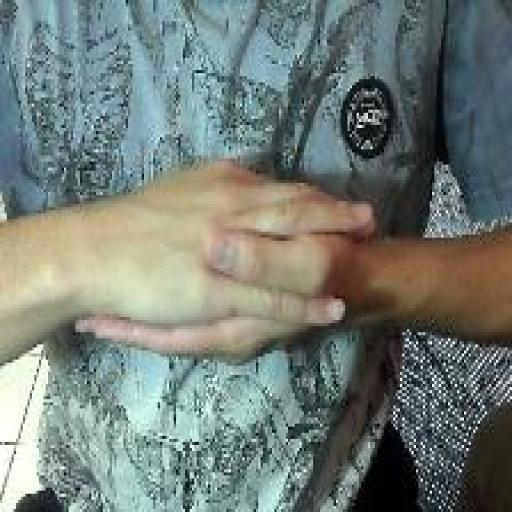Saru -monkey-: (70, 151, 380, 376)
